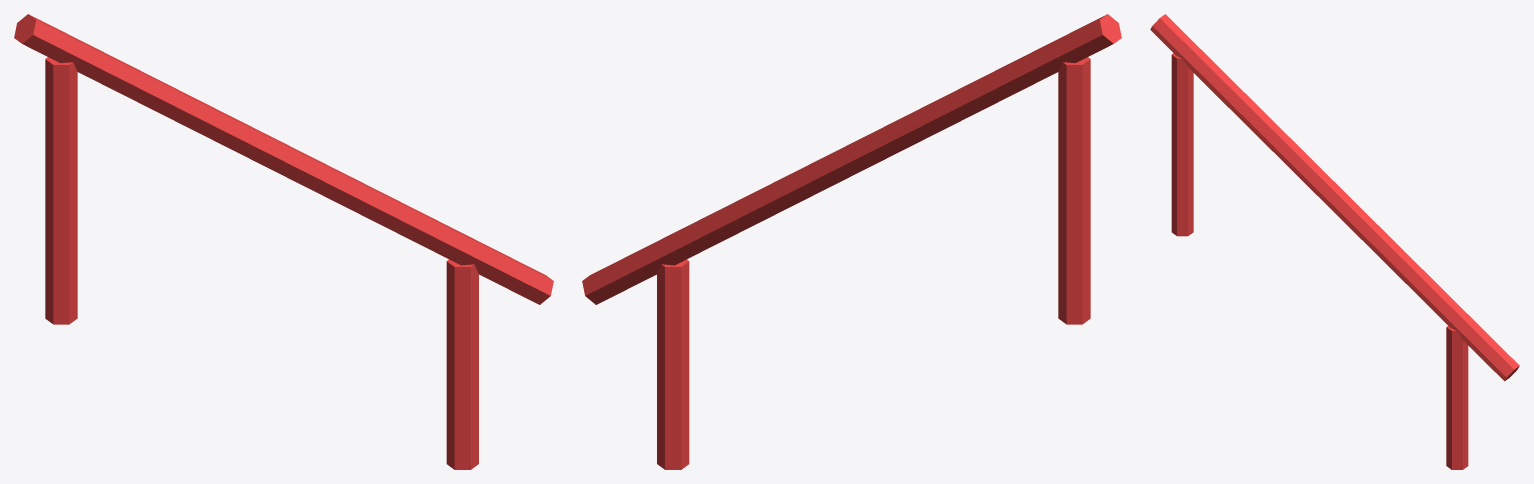
File: MD_Railing_Stairs_Short.fbx
The picture shows the model from 3 angles, left to right: view 1: azimuth 30°, elevation 25°; view 2: azimuth 150°, elevation 25°; view 3: azimuth 330°, elevation 25°; orthographic projection. The views are drawn at different scales.
Visible parts, largest first — view 1: MD_Railing_Stairs_Short; view 2: MD_Railing_Stairs_Short; view 3: MD_Railing_Stairs_Short.
Boxes of the visible parts, x1,y1,x2,y2 form: MD_Railing_Stairs_Short: (14,14,553,469); MD_Railing_Stairs_Short: (582,14,1121,469); MD_Railing_Stairs_Short: (1150,14,1519,469).
Size of the model in its own units: 223 by 221 by 11.74.
